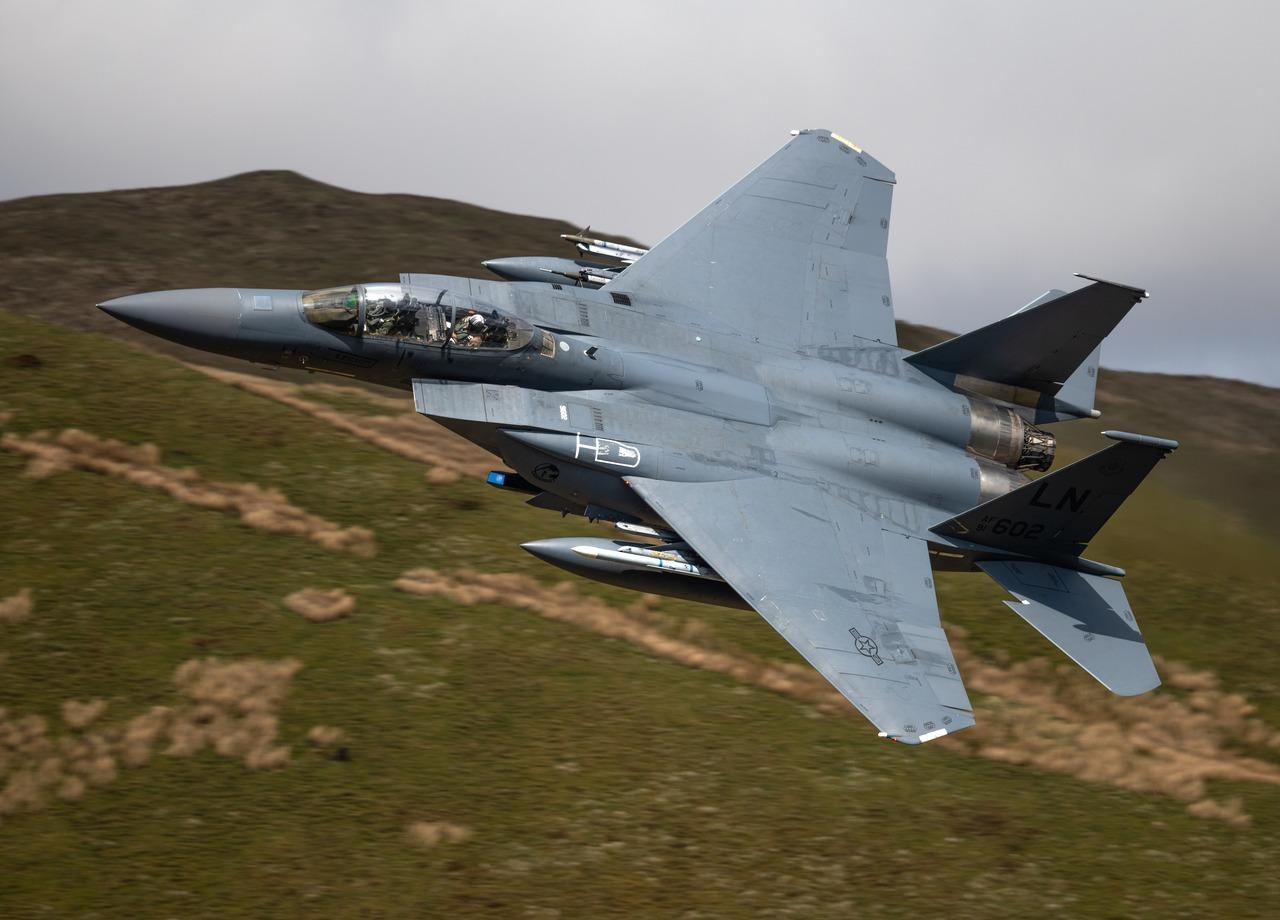aircraft: (65, 127, 1219, 745)
